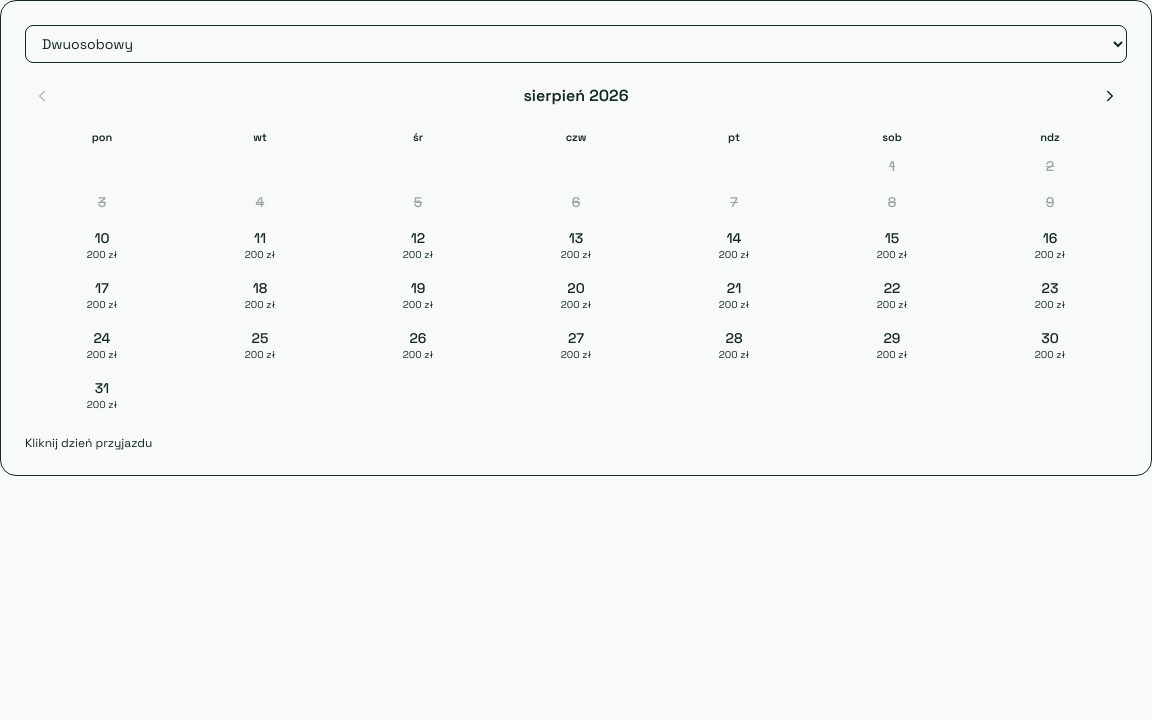
wybór terminu › zmiana typu pokoju czyści wybrany termin
Click the button "12 200 zł" at coordinates (418, 245), box x1=341 y1=222 x2=495 y2=268
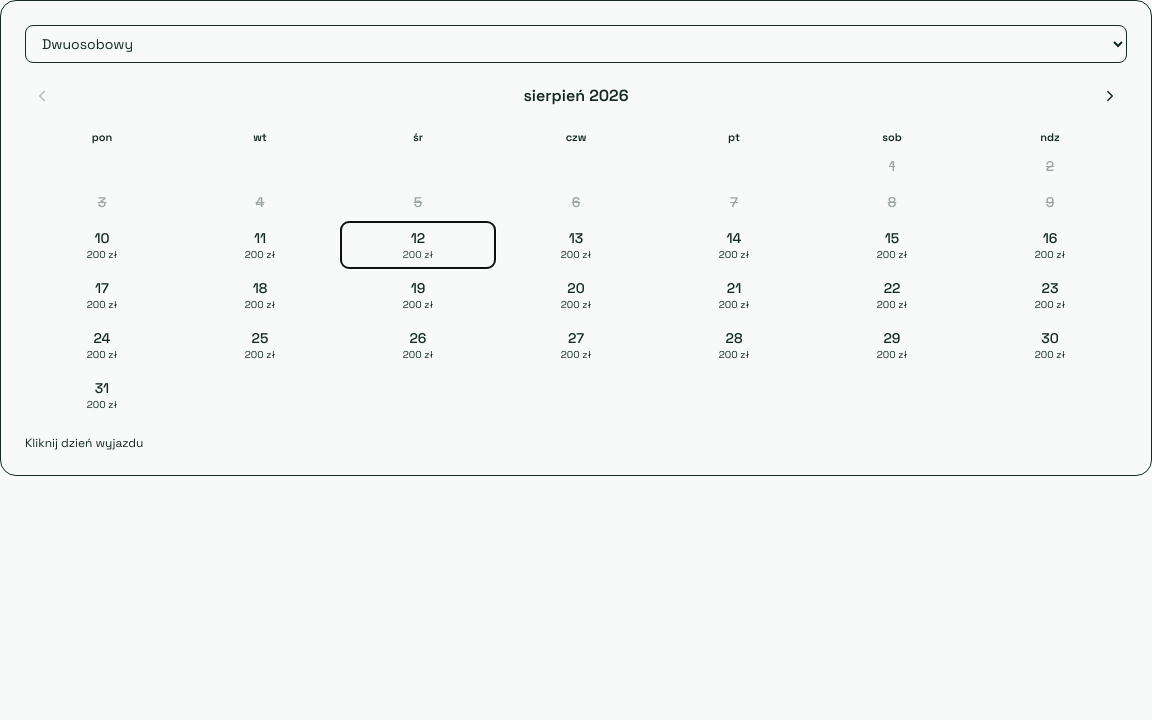
Click the button "15 200 zł" at coordinates (892, 245), box x1=815 y1=222 x2=969 y2=268
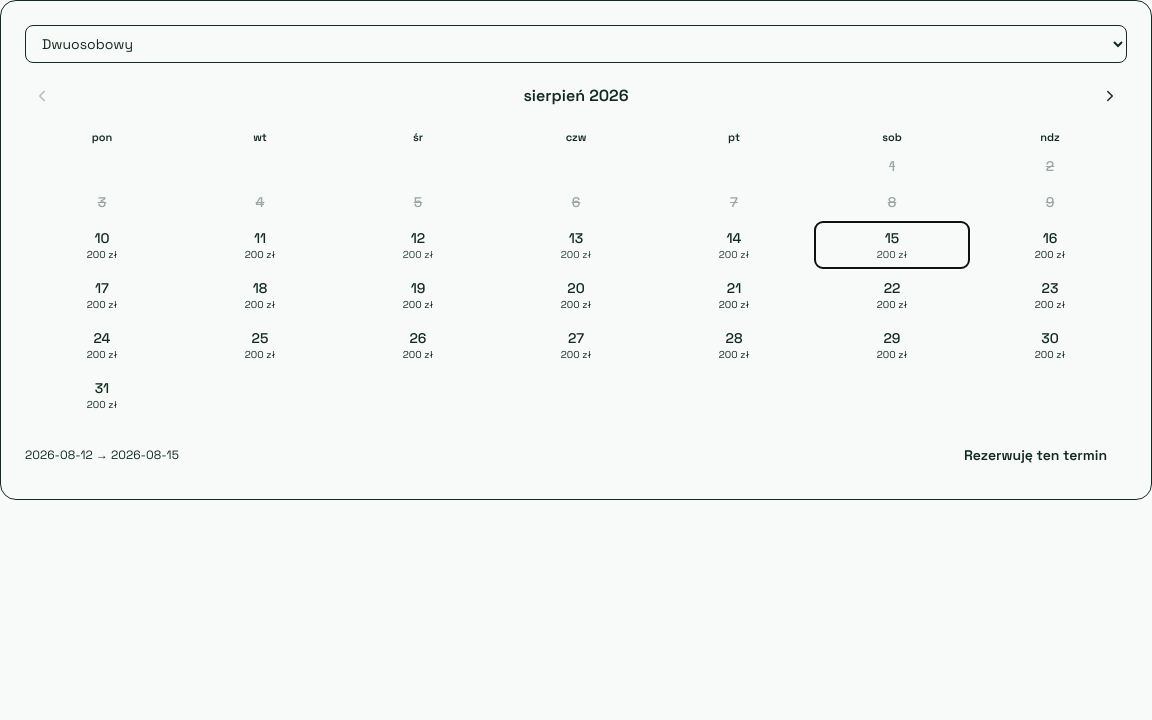
Select "Apartament" in the dropdown named "Wybierz pokój" at coordinates (576, 44), box x1=25 y1=25 x2=1127 y2=63
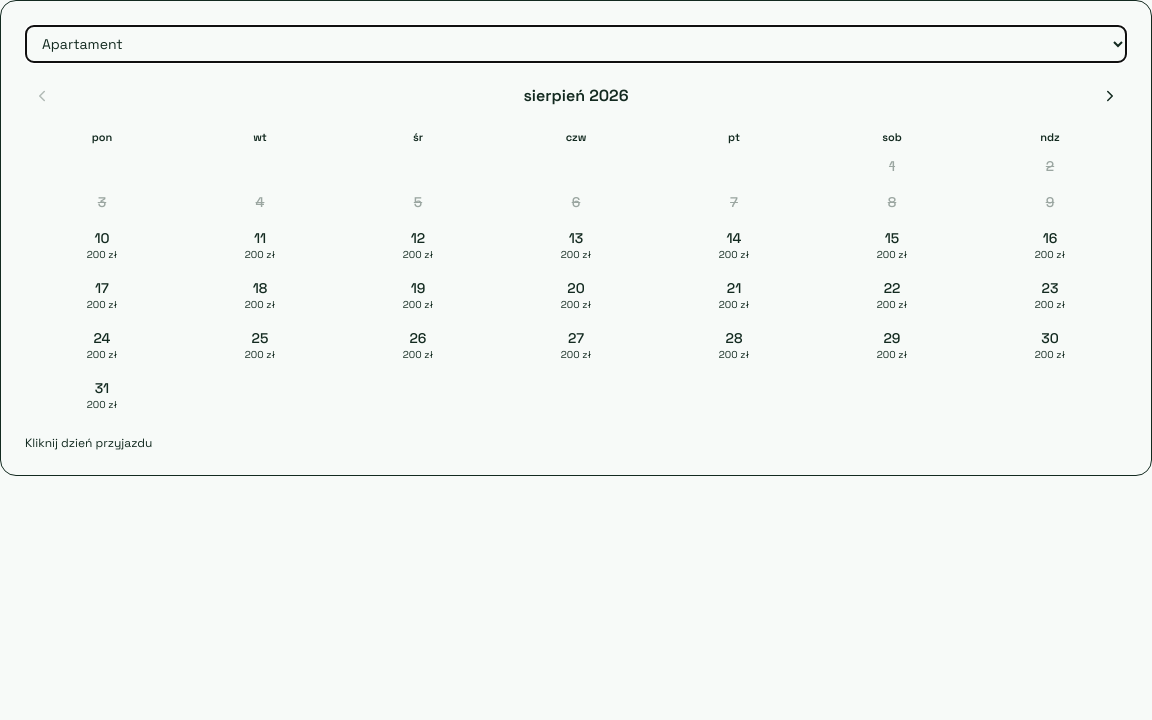
expect the text "Kliknij dzień przyjazdu" is shown: met, box x1=25 y1=435 x2=152 y2=451
